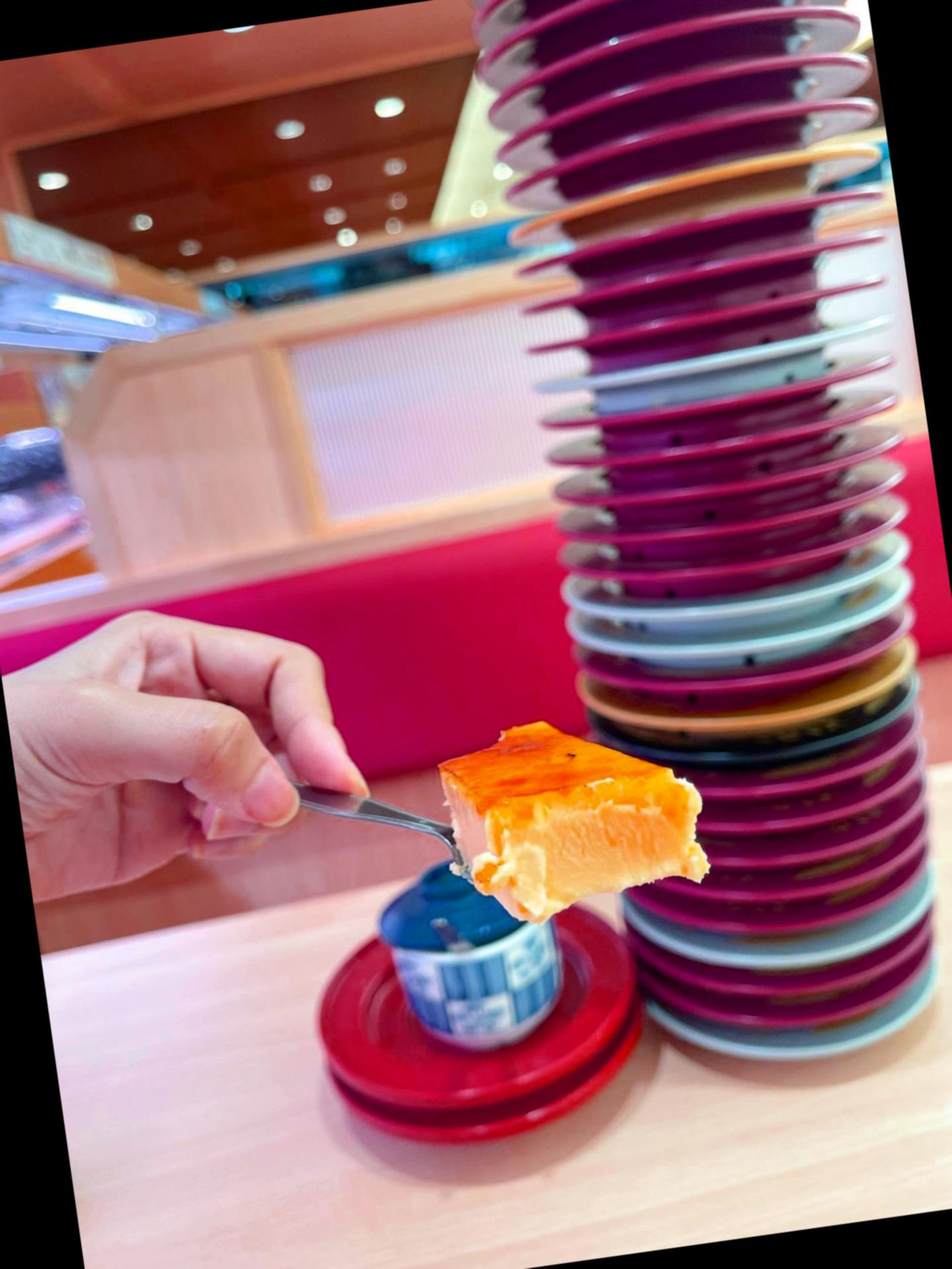Janback: (658, 707, 880, 766)
Jangold: (527, 156, 833, 242), (628, 675, 899, 739)
Janred: (507, 4, 825, 103), (507, 99, 831, 191), (505, 52, 815, 146), (537, 199, 837, 290), (536, 294, 827, 381), (549, 252, 831, 337), (558, 389, 844, 464), (571, 430, 831, 511), (608, 518, 844, 591), (601, 481, 845, 546), (492, 0, 820, 47), (713, 747, 901, 813), (709, 820, 900, 876), (647, 658, 848, 702), (712, 957, 890, 1005), (730, 794, 905, 839), (715, 989, 882, 1033), (745, 857, 891, 905), (729, 900, 884, 934)
Janwhite: (542, 337, 875, 419), (598, 560, 889, 645), (601, 609, 869, 677), (690, 1016, 917, 1076), (695, 914, 910, 968)
